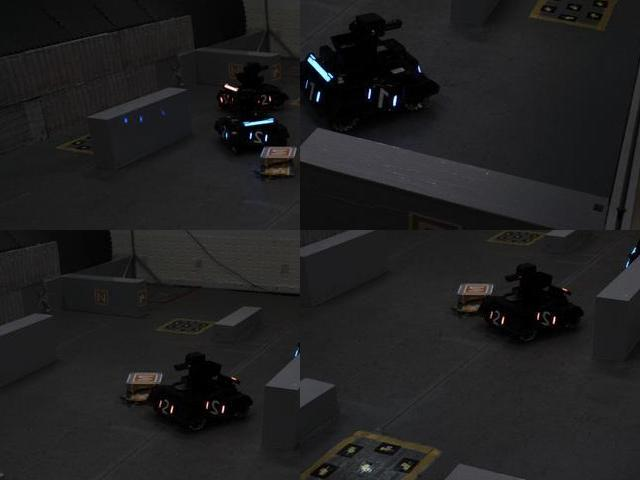armor: (365, 85, 404, 116), (300, 71, 328, 110), (203, 399, 232, 420), (534, 310, 563, 331), (246, 127, 275, 146), (155, 394, 177, 419), (486, 305, 508, 330), (252, 90, 274, 109), (215, 123, 232, 142), (220, 91, 234, 109)
